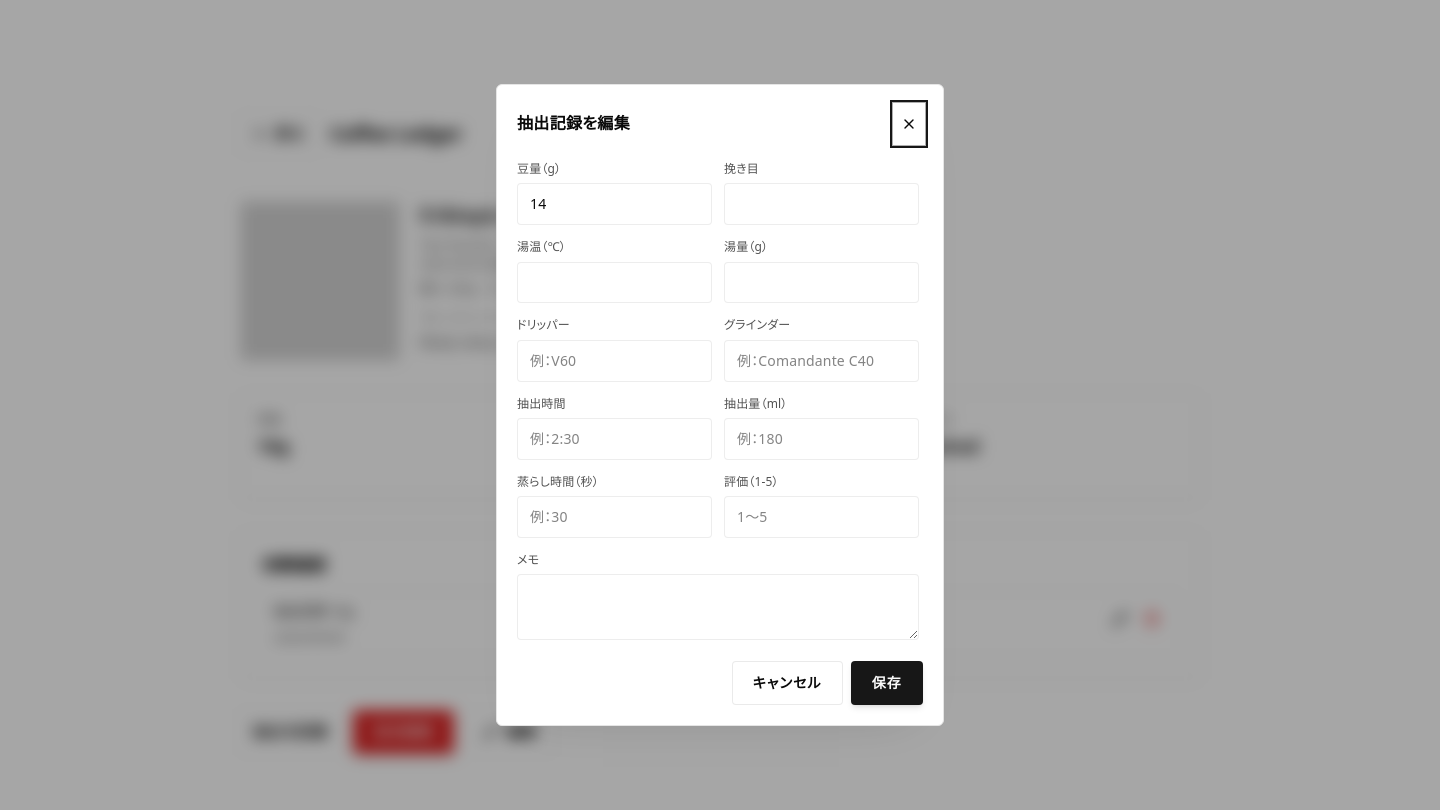
OOUI actions › keeps the editor open without changing stock when the amount exceeds available beans
The width and height of the screenshot is (1440, 810).
expect the heading "抽出記録を編集" is shown: met, box x1=517 y1=110 x2=630 y2=138
Replace the text in the number field labelled "豆量（g）" with "25" at (614, 204), box x1=517 y1=183 x2=712 y2=225
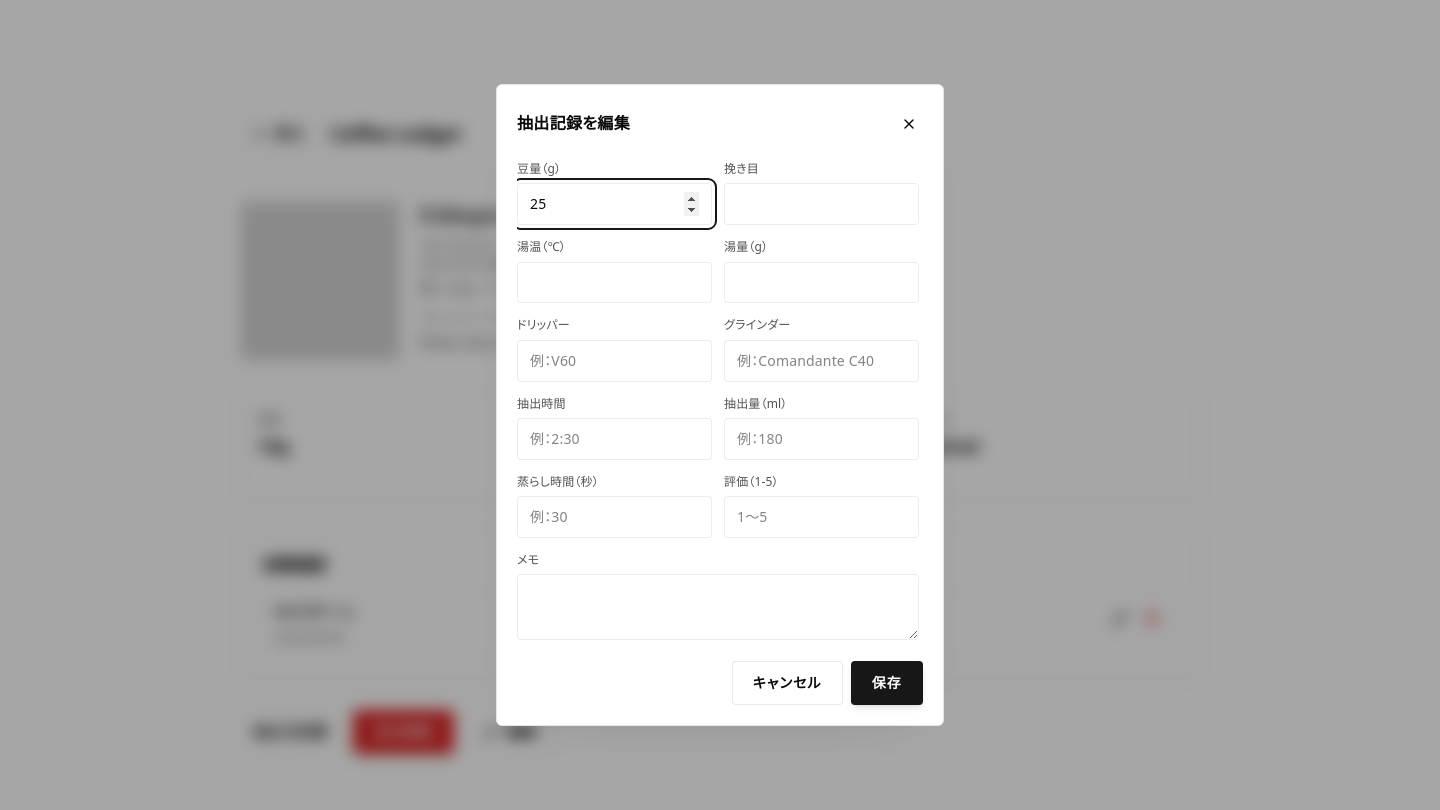
Click the button "保存" at (887, 683), box x1=851 y1=661 x2=923 y2=705
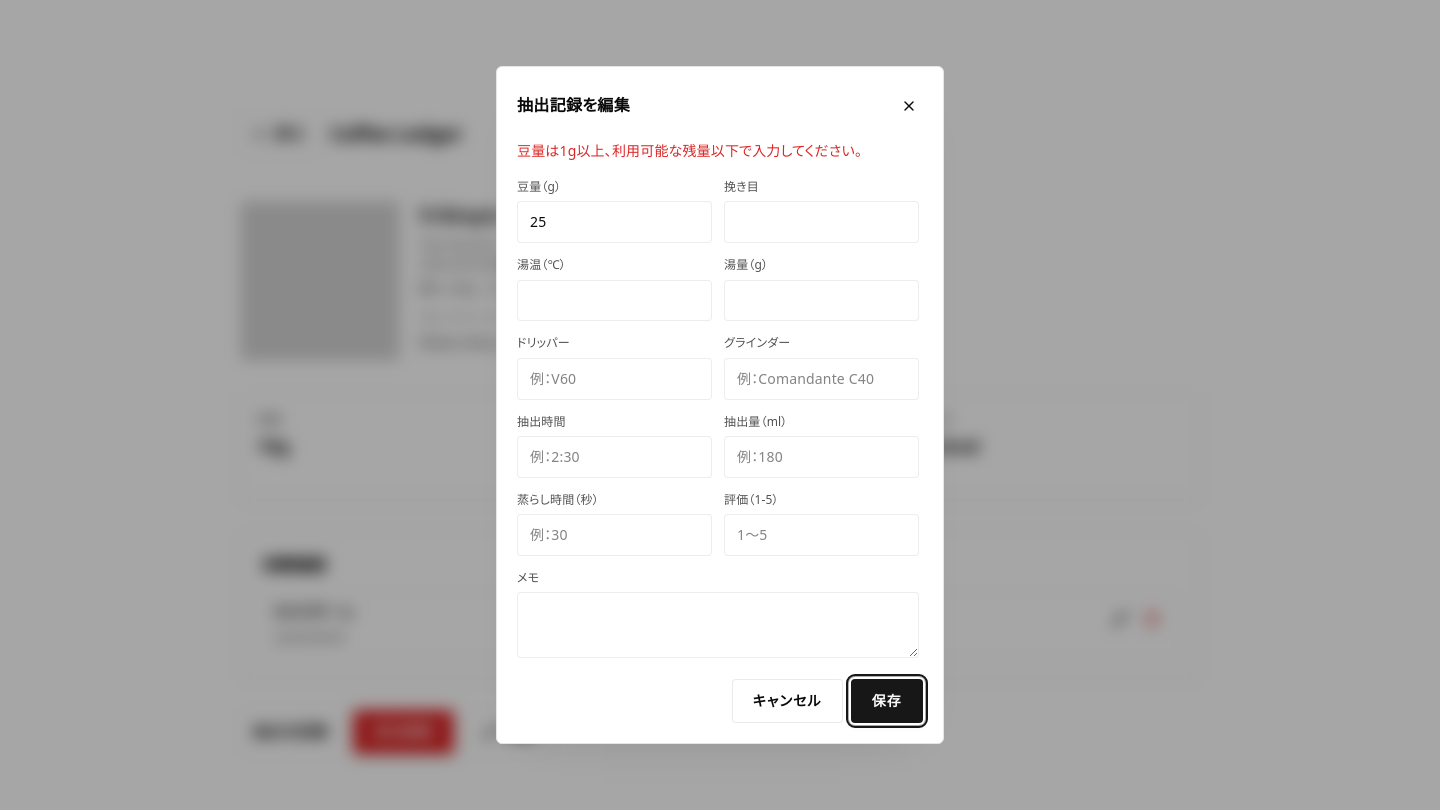
expect the heading "抽出記録を編集" is shown: met, box x1=517 y1=92 x2=630 y2=120
expect the message "豆量は1g以上、利用可能な残量以下で入力してください。" is shown: met, box x1=517 y1=141 x2=862 y2=160
